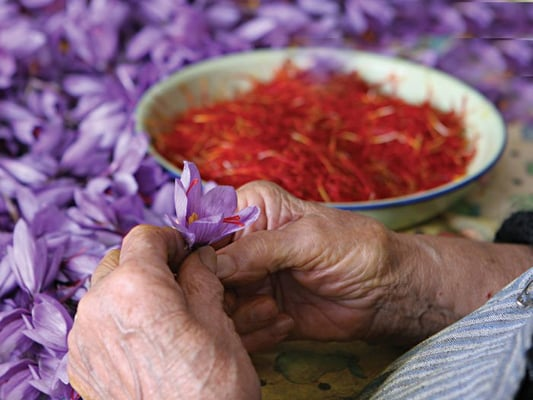sandwich: (135, 46, 496, 205)
